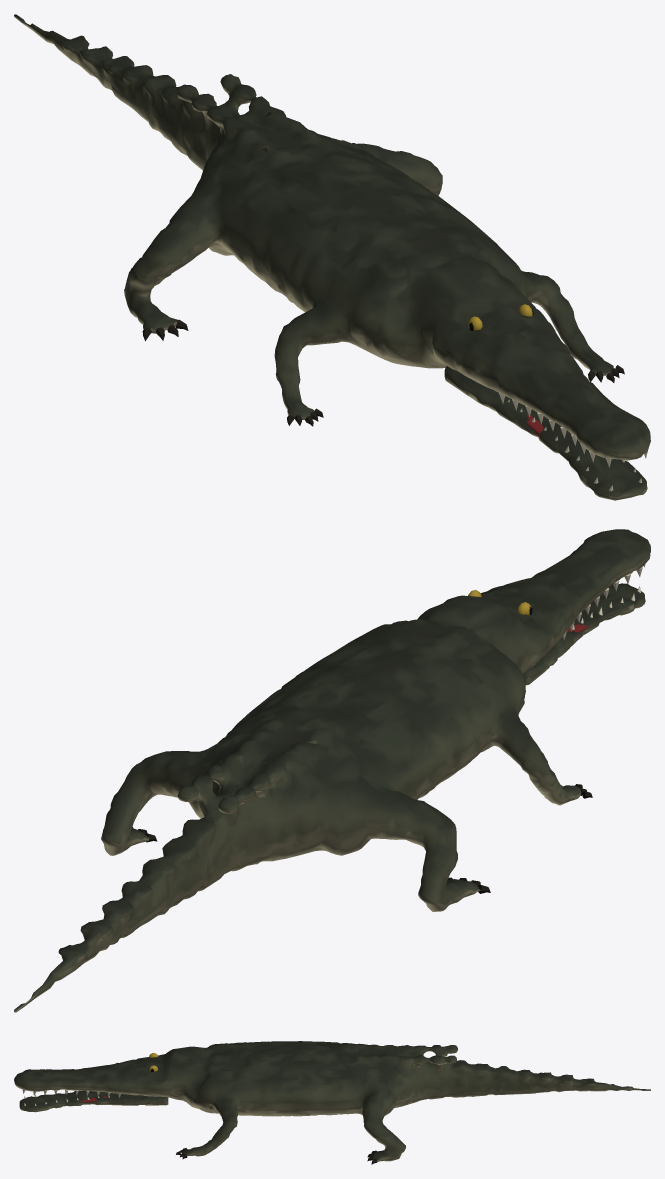
The model's file is Deinosuchus.fbx.
3 renders of one model, top to bottom at view 1: azimuth 30°, elevation 25°; view 2: azimuth 150°, elevation 25°; view 3: azimuth 270°, elevation 25°, orthographic. The views are drawn at different scales.
Parts seen in each view (by area): view 1: Deinosuchus; view 2: Deinosuchus; view 3: Deinosuchus.
Boxes of the visible parts, box(x1,y1,x2,y2) form: Deinosuchus: box(14, 14, 650, 500); Deinosuchus: box(14, 529, 650, 1012); Deinosuchus: box(14, 1041, 650, 1164).
Size of the model in its own units: 0.6512 by 0.2568 by 2.02.
